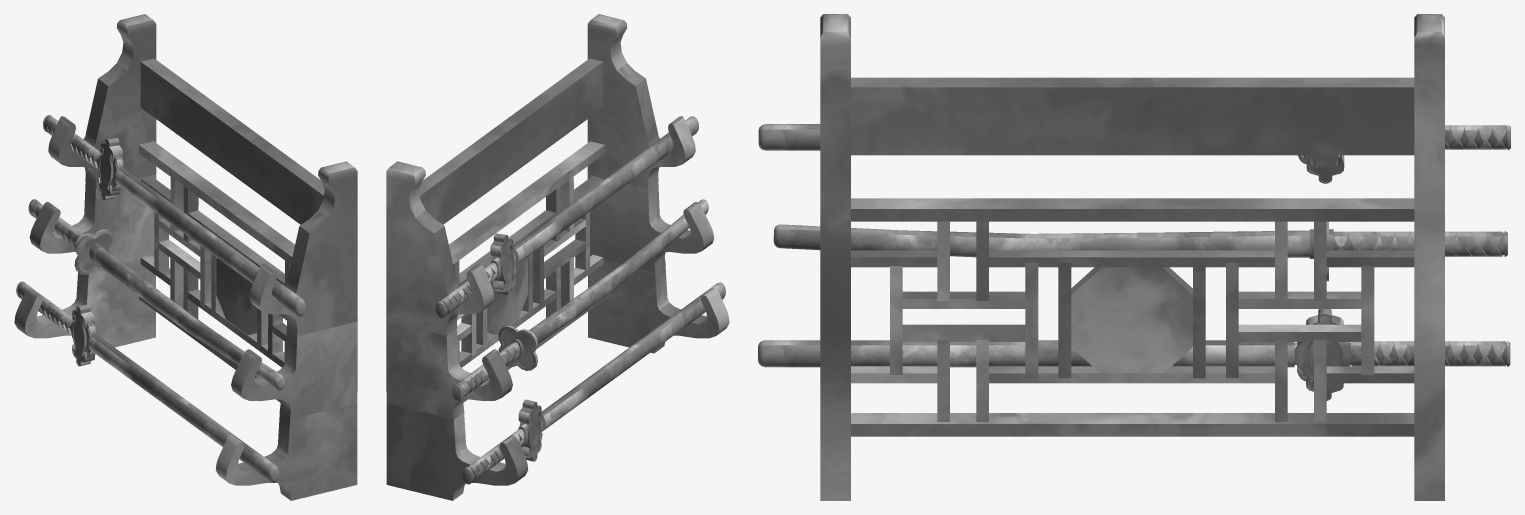
The model's file is sm_support_weapons_09.fbx.
3 views of the same model, side by side, from view 1: azimuth 30°, elevation 25°; view 2: azimuth 150°, elevation 25°; view 3: azimuth 270°, elevation 25° (orthographic). The views are drawn at different scales.
Visible parts, largest first — view 1: sm_support_weapons_09; view 2: sm_support_weapons_09; view 3: sm_support_weapons_09.
Boxes of the visible parts, bbox=[...] form: sm_support_weapons_09: bbox=[14, 14, 357, 500]; sm_support_weapons_09: bbox=[386, 14, 729, 500]; sm_support_weapons_09: bbox=[758, 14, 1510, 500].
Bounding box in the file's own units: 44.46 × 149 × 103.
2 materials, 2 textured.
